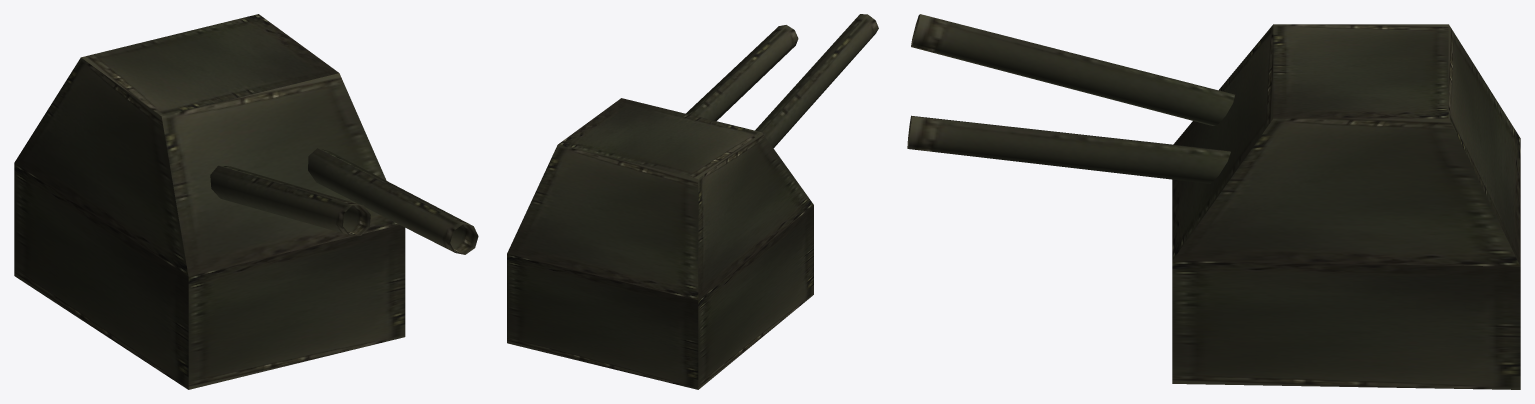
File: tankaagunruin.gltf
3 views of the same model, side by side, from view 1: azimuth 30°, elevation 25°; view 2: azimuth 150°, elevation 25°; view 3: azimuth 270°, elevation 25° (orthographic). The views are drawn at different scales.
Parts seen in each view (by area): view 1: tankaagunruin_atomic0; view 2: tankaagunruin_atomic0; view 3: tankaagunruin_atomic0.
Part boxes in pixels (x1,y1,x2,y2): tankaagunruin_atomic0: (14, 14, 478, 389); tankaagunruin_atomic0: (507, 14, 878, 389); tankaagunruin_atomic0: (907, 14, 1520, 389).
Bounding box in the file's own units: 4.4 × 4.48 × 8.89.
1 material, 1 textured.
